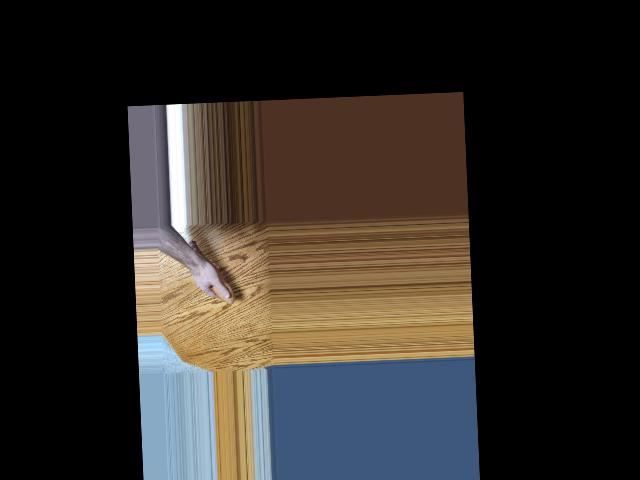sweet_potato: (187, 237, 234, 306)
